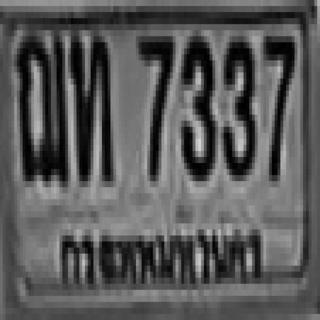A12: (14, 30, 65, 181)
A23: (68, 30, 110, 181)
N03: (178, 30, 212, 175), (221, 33, 252, 172)
N07: (136, 30, 173, 175), (262, 30, 293, 175)
P04: (58, 221, 269, 295)
